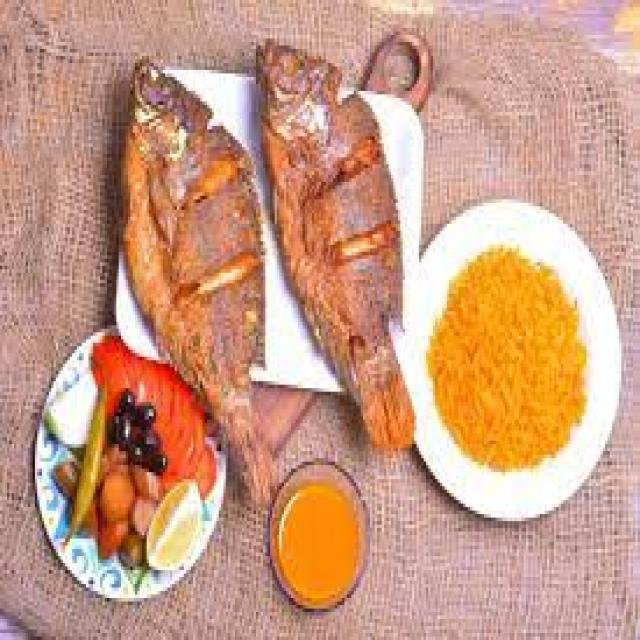Peixe: (119, 53, 277, 507), (254, 35, 416, 451)
